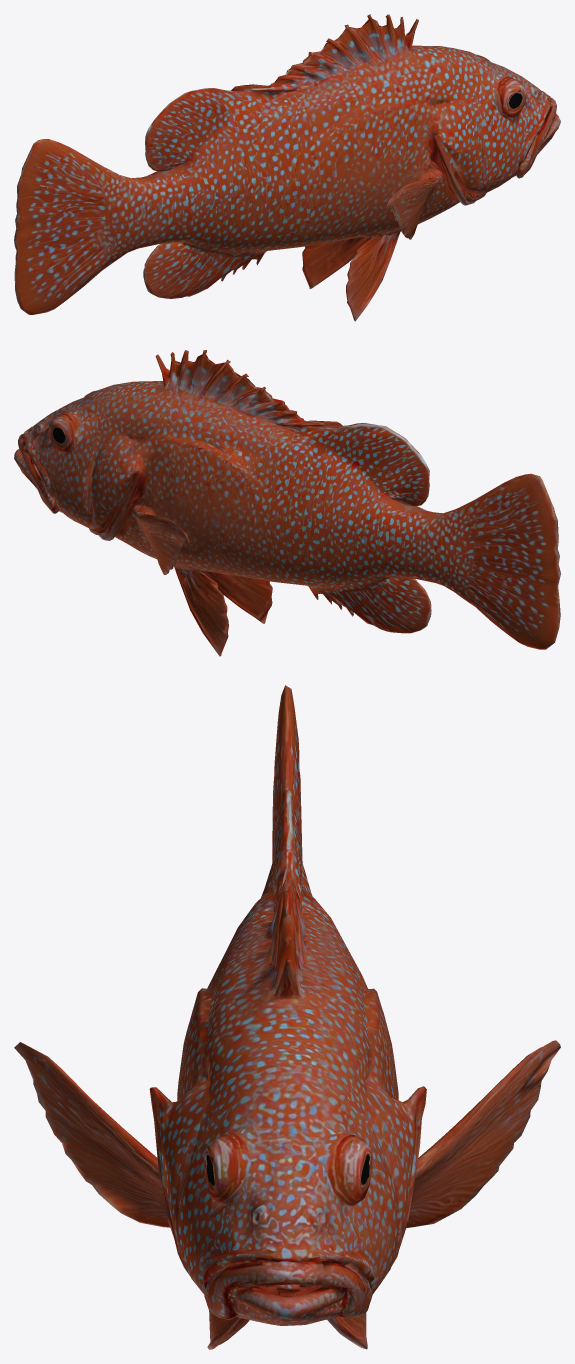
File: grouper.glb
The picture shows the model from 3 angles, top to bottom: view 1: azimuth 30°, elevation 25°; view 2: azimuth 150°, elevation 25°; view 3: azimuth 270°, elevation 25°; orthographic projection. The views are drawn at different scales.
Visible parts, largest first — view 1: tripo_node_29d2bfff-5933-4139-b160-82867a36fda0; view 2: tripo_node_29d2bfff-5933-4139-b160-82867a36fda0; view 3: tripo_node_29d2bfff-5933-4139-b160-82867a36fda0.
Boxes of the visible parts, <box> form: tripo_node_29d2bfff-5933-4139-b160-82867a36fda0: <box>14,14,560,321</box>; tripo_node_29d2bfff-5933-4139-b160-82867a36fda0: <box>14,350,560,656</box>; tripo_node_29d2bfff-5933-4139-b160-82867a36fda0: <box>14,685,560,1349</box>.
Size of the model in its own units: 1 by 0.4942 by 0.4992.
Materials: 1 (1 with a texture image).
